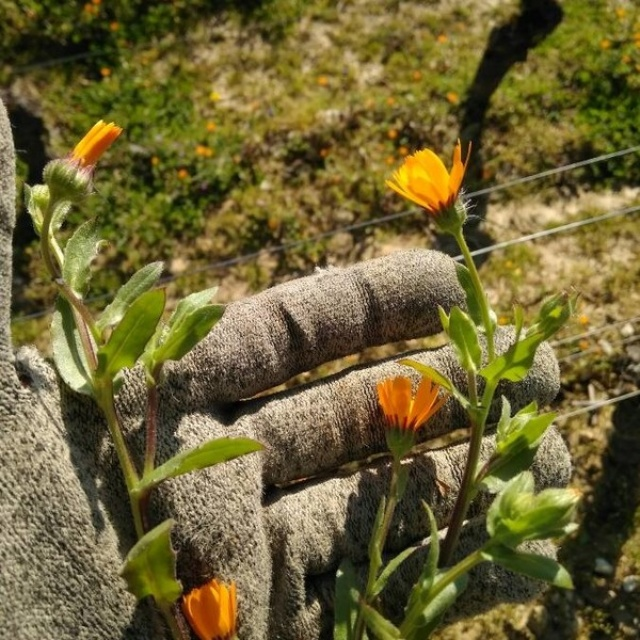obstacle: (11, 118, 302, 615), (380, 124, 586, 622)
